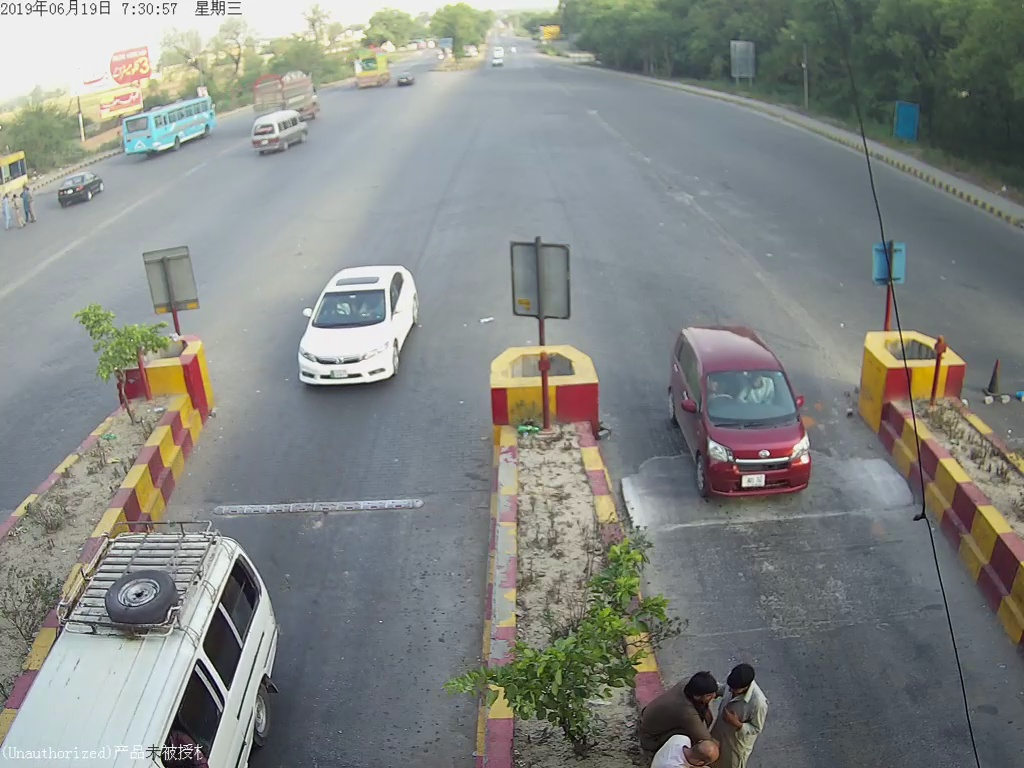Cat-1: (661, 313, 824, 512), (288, 256, 422, 395)
